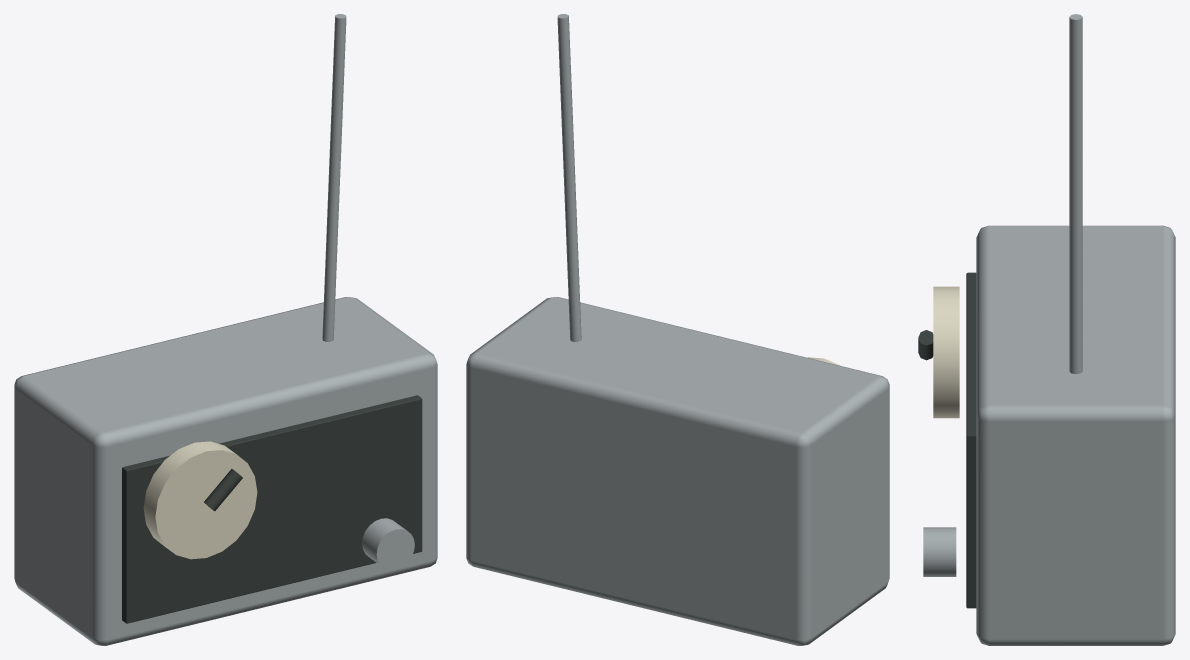
File: scavengers-loot-library-radio-chassis-e25a2cf5__2482.glb
The picture shows the model from 3 angles, left to right: view 1: azimuth 30°, elevation 25°; view 2: azimuth 150°, elevation 25°; view 3: azimuth 270°, elevation 25°; orthographic projection. The views are drawn at different scales.
Parts seen in each view (by area): view 1: radio-chassis; view 2: radio-chassis; view 3: radio-chassis.
Part boxes in pixels (x1,y1,x2,y2): radio-chassis: (14, 14, 437, 645); radio-chassis: (466, 14, 889, 645); radio-chassis: (918, 14, 1175, 645).
Size of the model in its own units: 0.27 by 0.4002 by 0.155.
